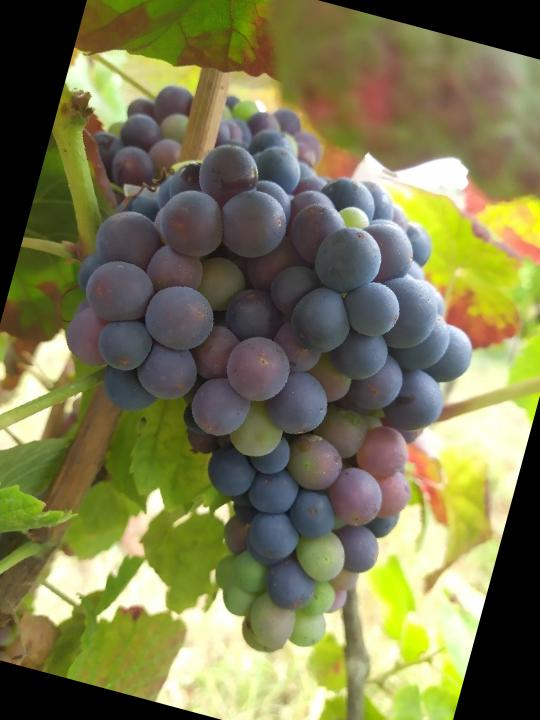grape: (0, 90, 518, 688)
